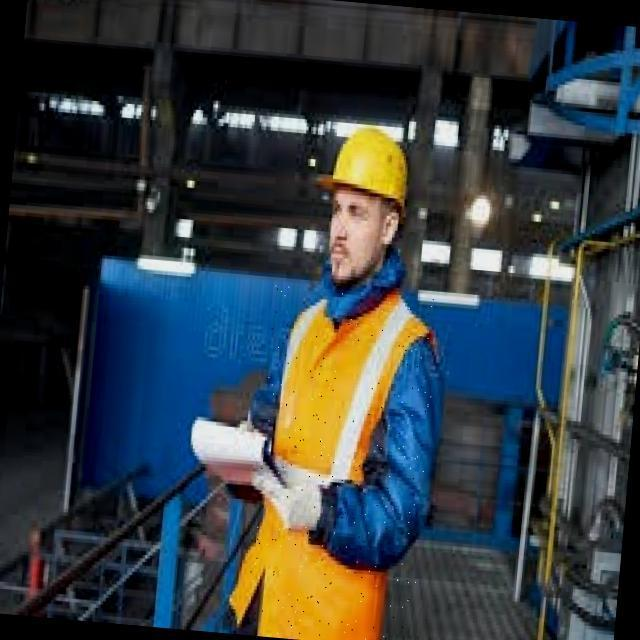helmet: (313, 123, 418, 223)
vest: (245, 284, 441, 640)
